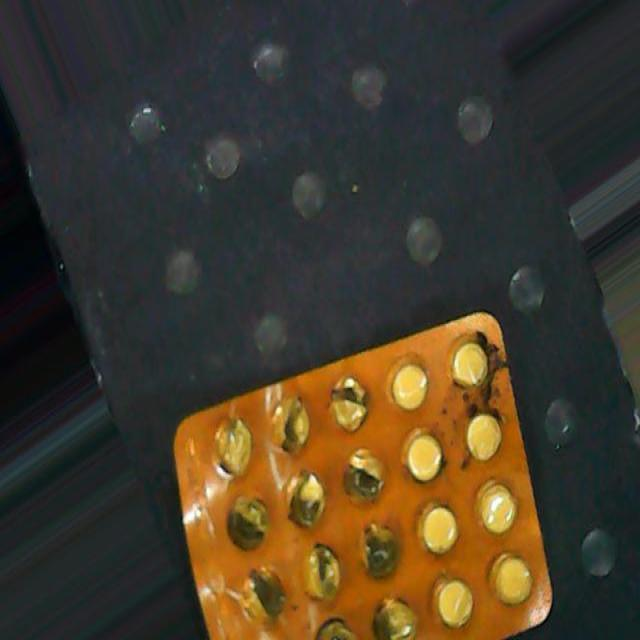-Hazardous waste - medicine inner packaging-: (173, 311, 553, 640)
